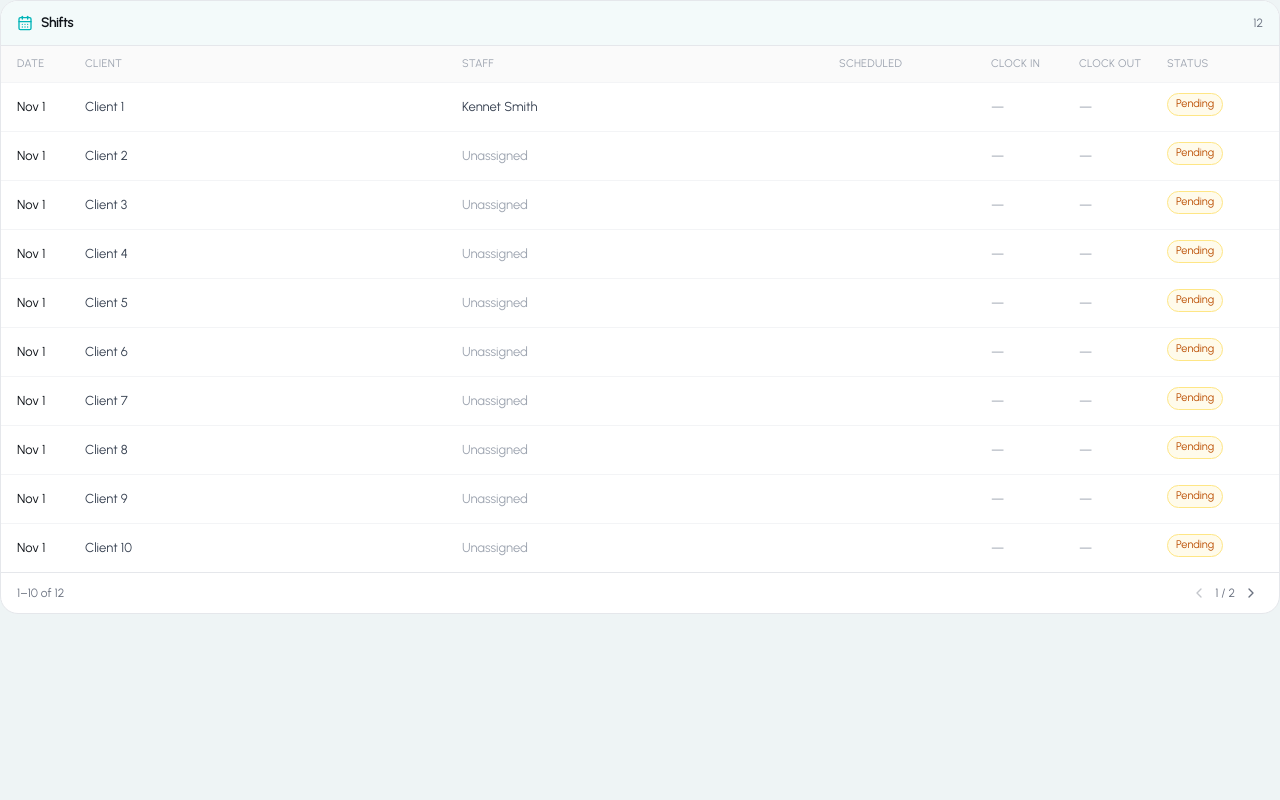
Test case: GenericListCard paging › pages shift cards using their meta
Check: the text "Client 10" is shown, box [85,540,132,555]
Check: the text "Client 11" is not shown
Click the button named "Next page": (1251, 593) [1239,581,1263,605]
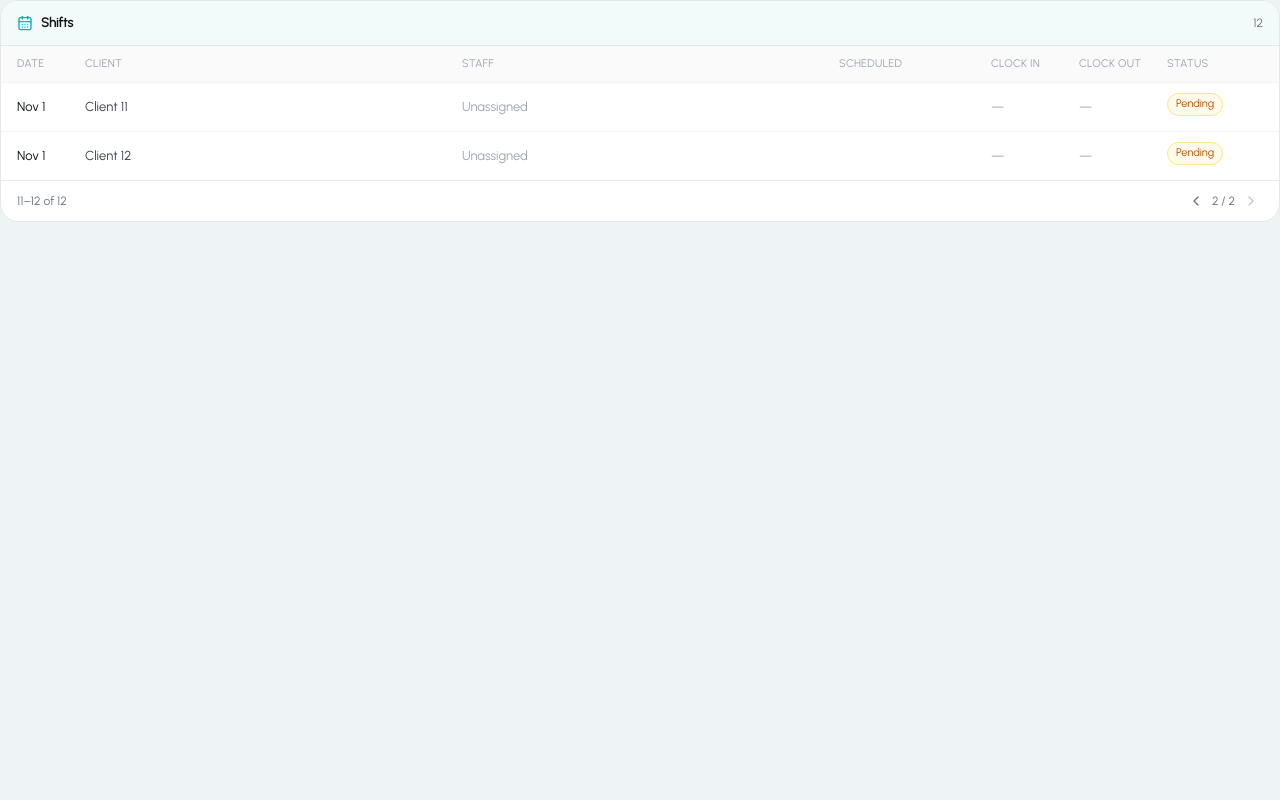
Check: the text "Client 12" is shown, box [85,148,131,163]
